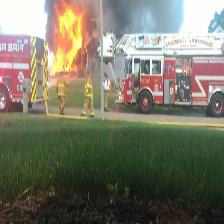fire: (48, 5, 90, 77)
